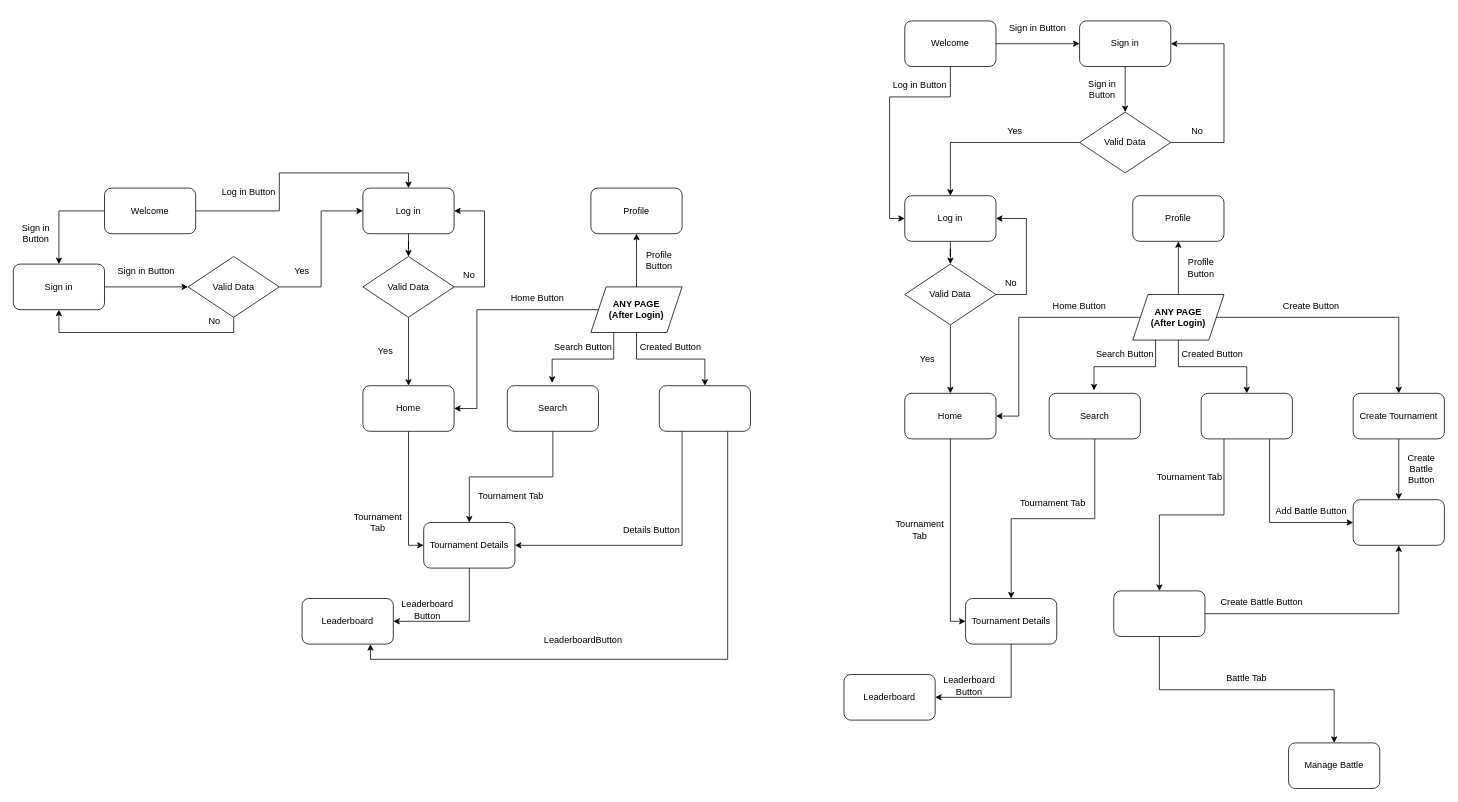
Some shapes in this 1458 by 802 pixel diagram are drawn without their labels. Each missing label, with the box of its shape:
Create Battle: (1352, 499, 1444, 545)
Created: (1200, 393, 1292, 439)
Enrolled: (659, 385, 750, 431)
Manage Tournament: (1113, 590, 1205, 636)
